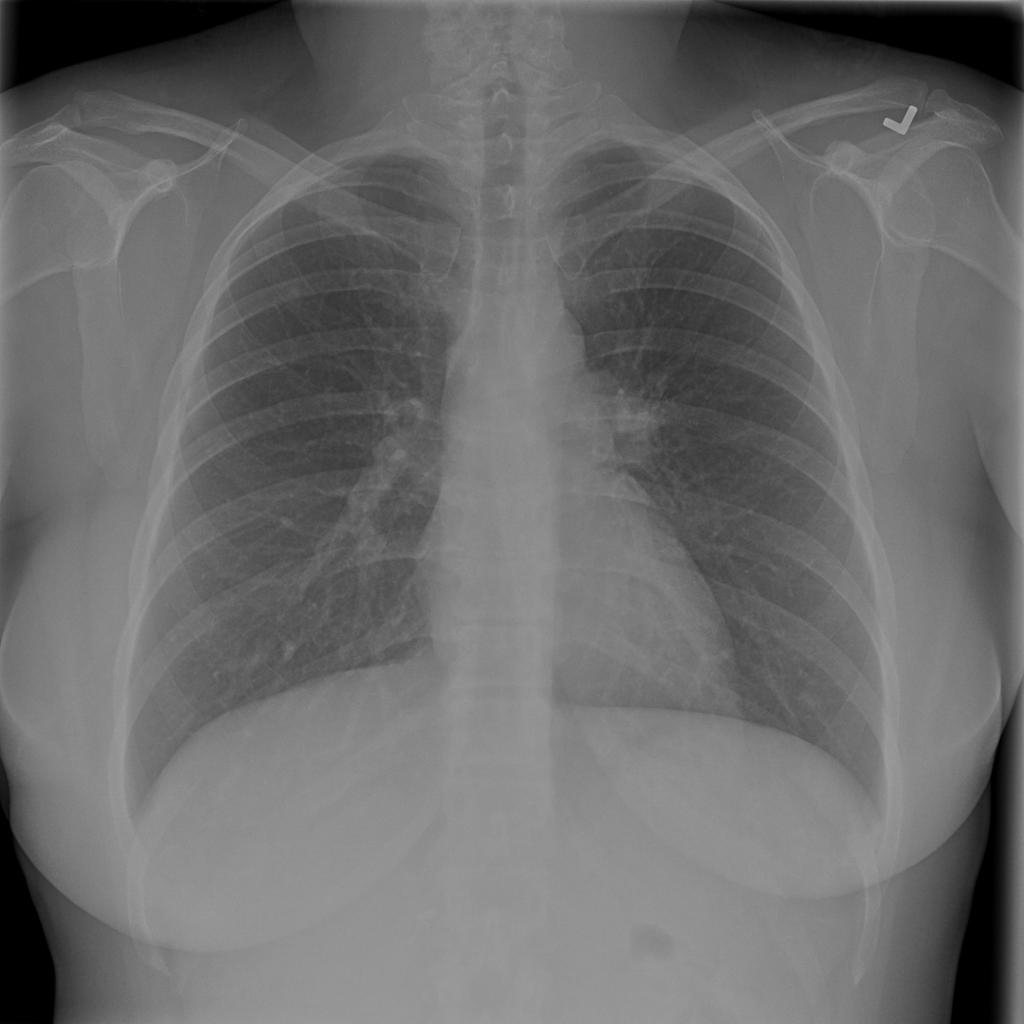nodule: (786, 675, 838, 723), (273, 629, 308, 668)
